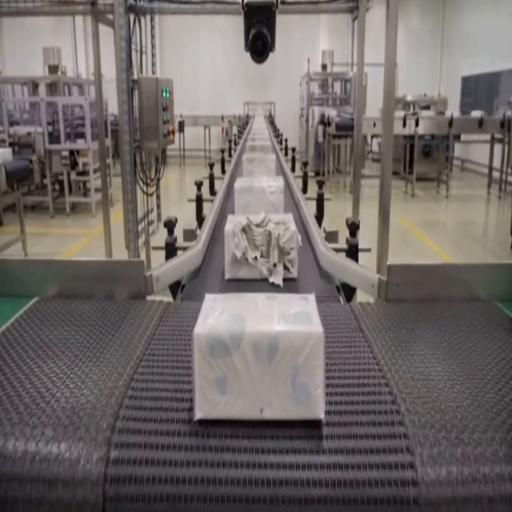defective: (194, 291, 324, 422), (225, 212, 302, 284)
good: (233, 176, 284, 217), (242, 151, 280, 179), (245, 115, 273, 139), (244, 134, 274, 154)
